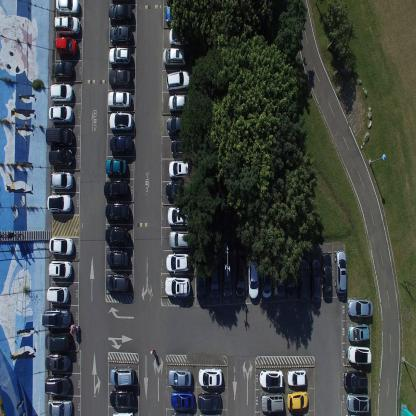car: (42, 307, 72, 329), (45, 126, 74, 148), (167, 205, 194, 227), (53, 15, 81, 36), (166, 69, 191, 92), (334, 250, 347, 294), (45, 352, 71, 374), (44, 373, 70, 395), (164, 276, 191, 297), (165, 180, 193, 200), (44, 331, 72, 351), (260, 252, 272, 298), (347, 344, 372, 366), (162, 46, 187, 68), (108, 1, 131, 24), (260, 391, 284, 413), (343, 368, 367, 390), (309, 260, 321, 304), (109, 134, 133, 156), (49, 82, 73, 104), (346, 392, 371, 413), (165, 5, 190, 26), (103, 179, 128, 200), (109, 366, 135, 386), (109, 388, 135, 408), (166, 116, 192, 136), (48, 236, 74, 256), (298, 258, 309, 304), (55, 35, 78, 57), (198, 366, 222, 387), (105, 224, 129, 245), (50, 170, 74, 191), (168, 229, 193, 249), (105, 202, 130, 222), (321, 253, 332, 298), (258, 369, 284, 388), (48, 105, 74, 124), (48, 148, 74, 167), (285, 254, 296, 298), (109, 24, 132, 45), (166, 252, 190, 272), (108, 68, 132, 88), (109, 111, 133, 131), (348, 298, 373, 317), (47, 194, 72, 213), (286, 390, 308, 411), (274, 256, 285, 298), (248, 256, 259, 298), (198, 390, 221, 410), (171, 390, 194, 410), (168, 158, 191, 178), (168, 93, 191, 113), (108, 90, 131, 110), (168, 27, 192, 46), (108, 46, 132, 65), (106, 273, 130, 292), (48, 260, 73, 278), (47, 398, 72, 416), (196, 260, 206, 304), (168, 368, 191, 387), (106, 248, 129, 267), (51, 61, 74, 80), (209, 258, 219, 301), (235, 256, 245, 298), (221, 260, 232, 298), (106, 157, 128, 176), (170, 138, 193, 156), (46, 286, 69, 304), (348, 324, 370, 342), (286, 368, 306, 387), (55, 0, 80, 15), (170, 411, 193, 415), (198, 412, 222, 415)
